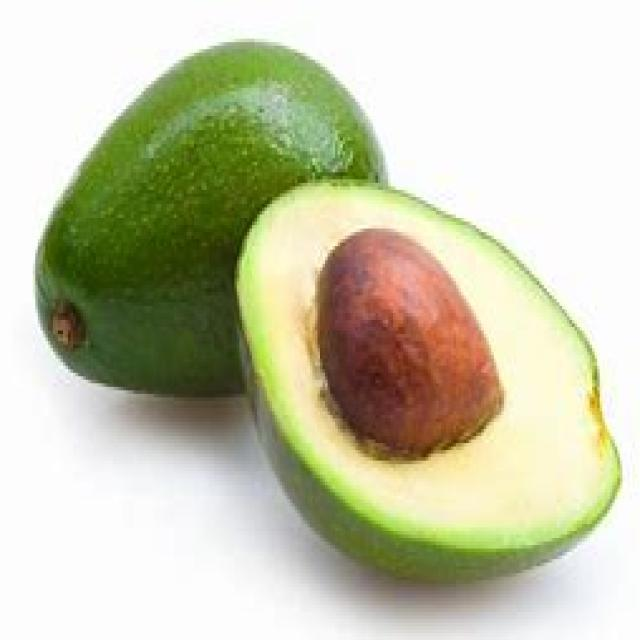avocado: (227, 181, 623, 597), (23, 45, 388, 402)
